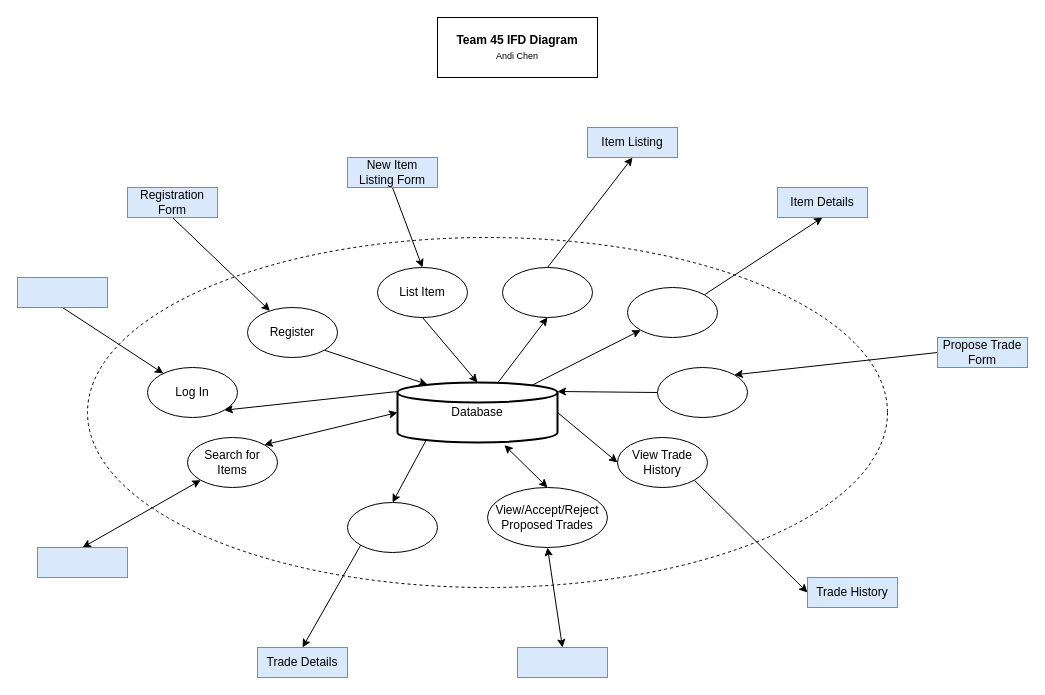
This 1045x695 diagram has some shape labels left out. The centre of each missing label's shape, as x and y in pixels:
Item Search and Results: point (82, 562)
Log In Form: point (62, 292)
Propose Trade: point (702, 392)
Trades Pending List: point (562, 662)
View Item: point (672, 312)
View Items Listing: point (547, 292)
View Trade: point (392, 527)
